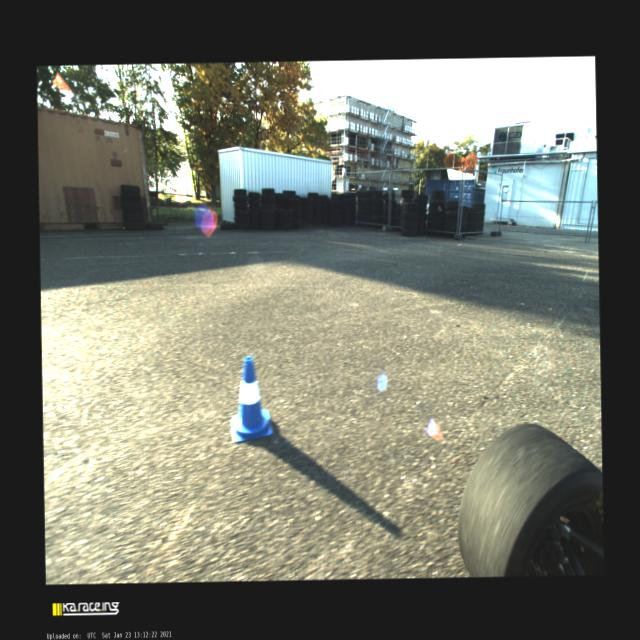blue_cone: (230, 356, 274, 442)
